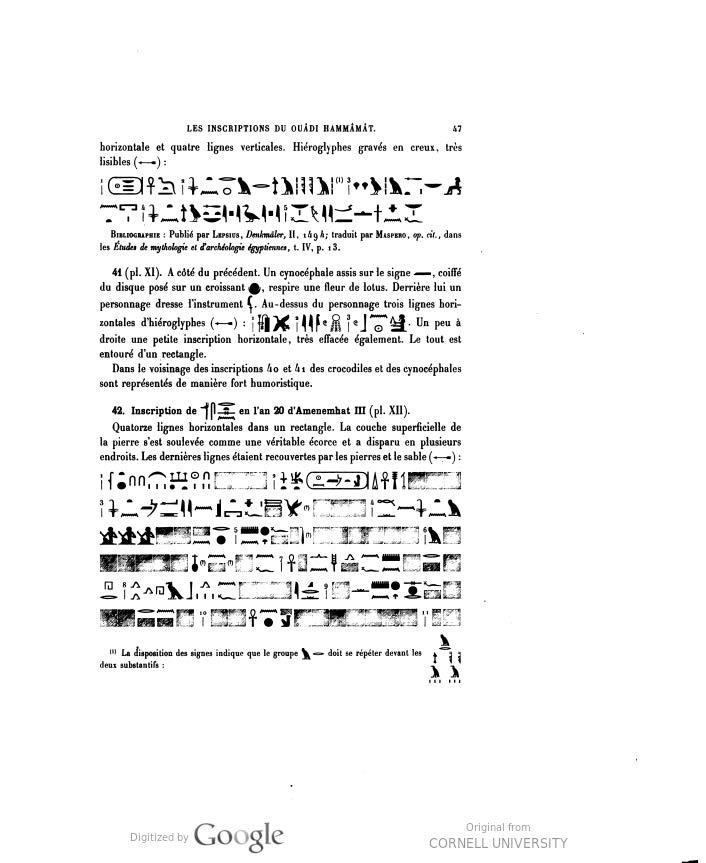circle: (305, 466, 376, 494), (96, 170, 150, 198)
